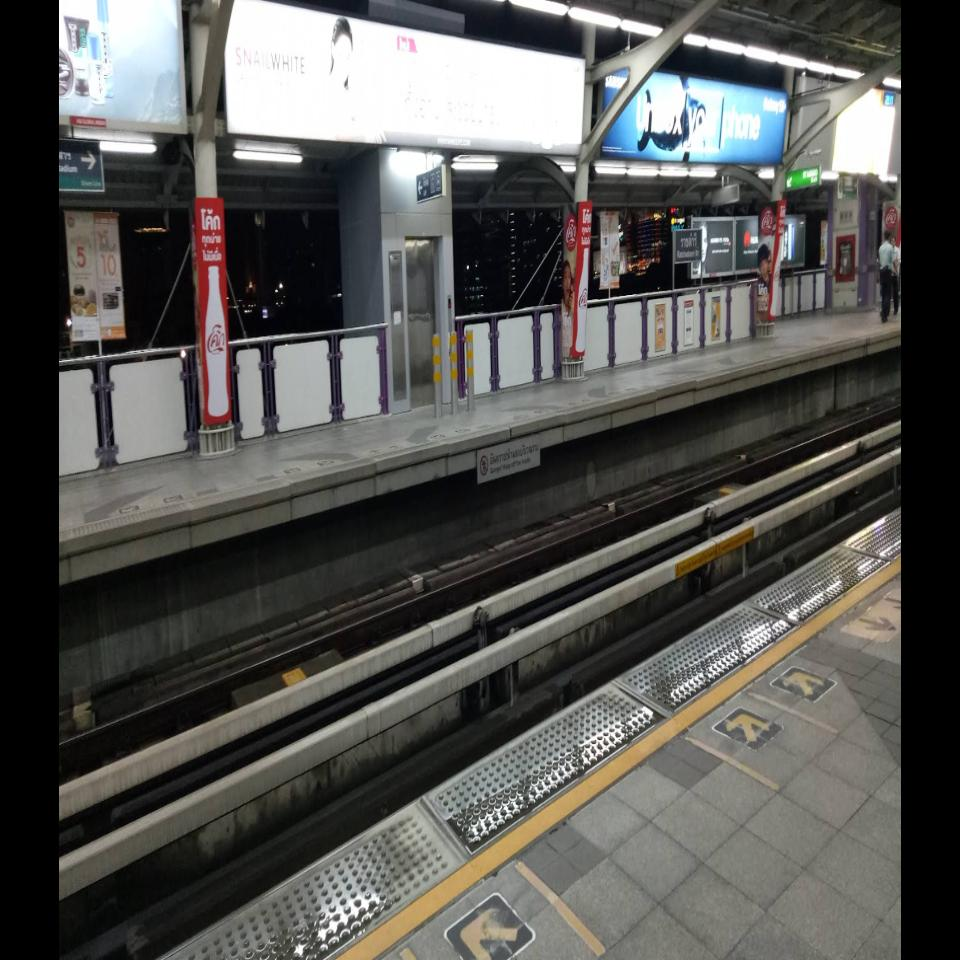Ratchadamri: (674, 228, 702, 264)
